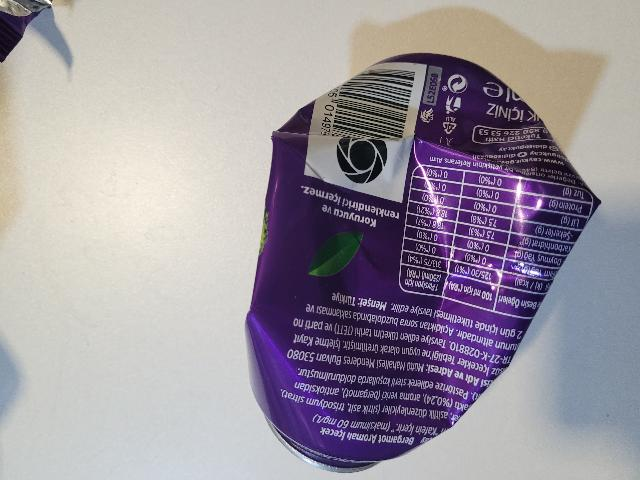Metal: (244, 49, 610, 480)
